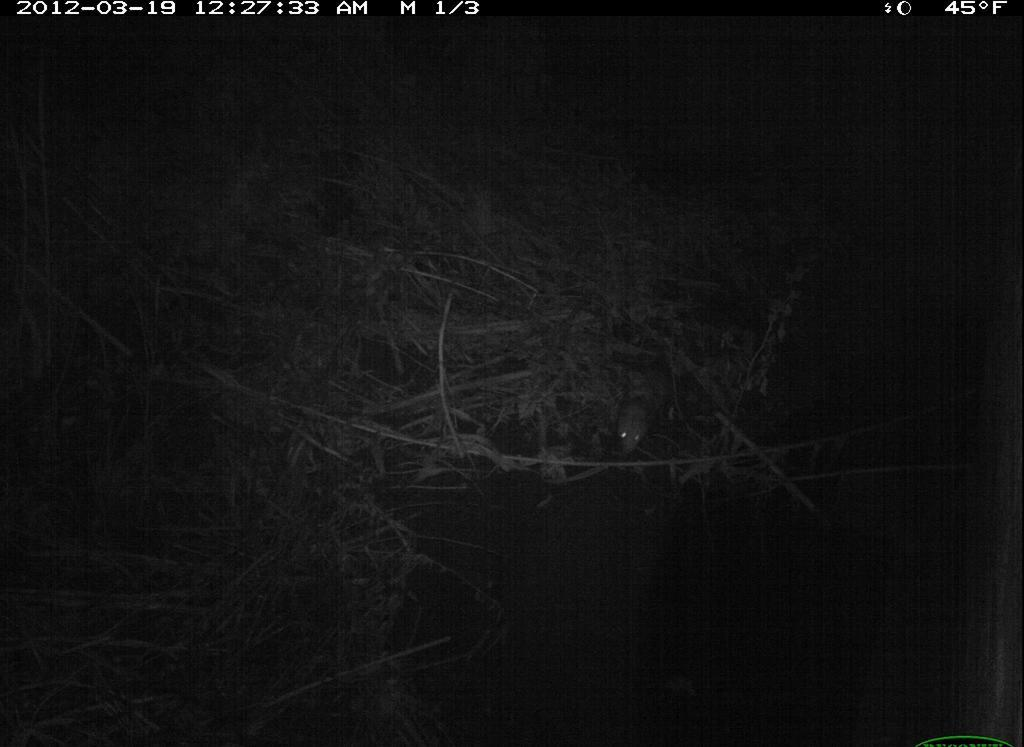opossum: (601, 335, 701, 465)
